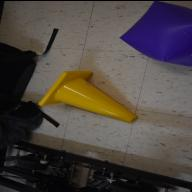cone: (38, 69, 138, 123)
cube: (119, 0, 192, 66)
